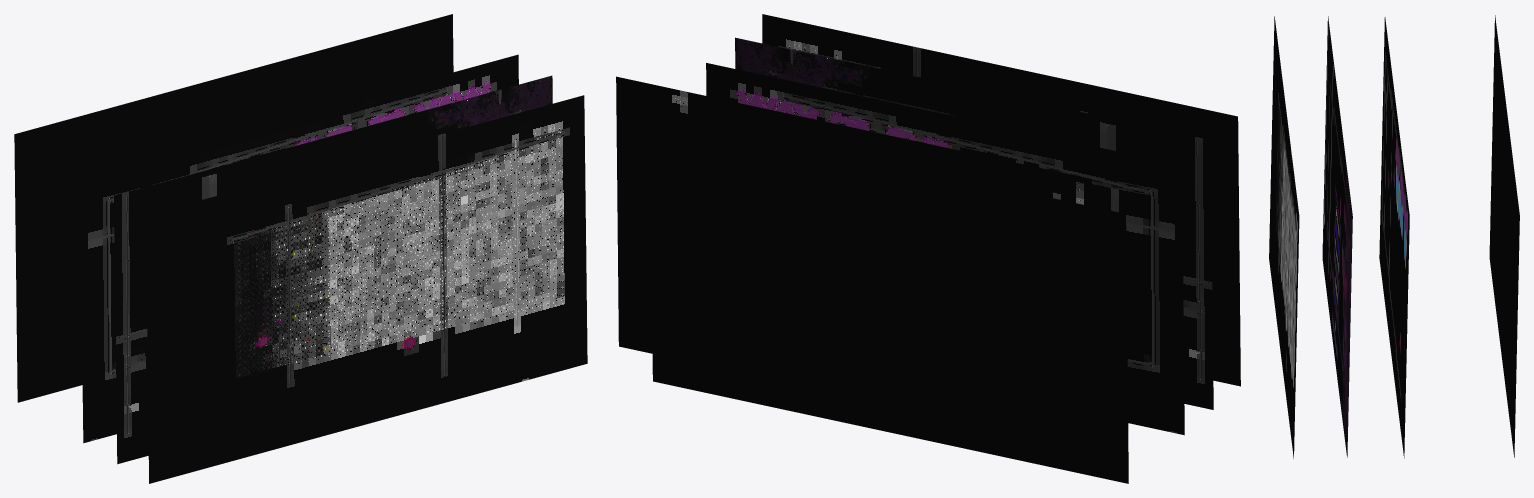
Rendered from WotW_title_3D-transformed.glb.
3 renders of one model, left to right at view 1: azimuth 30°, elevation 25°; view 2: azimuth 150°, elevation 25°; view 3: azimuth 270°, elevation 25°, orthographic. The views are drawn at different scales.
Parts seen in each view (by area): view 1: plane; view 2: plane; view 3: plane.
Part boxes in pixels (x1,y1,x2,y2): plane: (14, 14, 587, 483); plane: (616, 14, 1240, 483); plane: (1269, 15, 1519, 458).
Size of the model in its own units: 15.23 by 7.72 by 7.09.
1 material, 1 textured.
